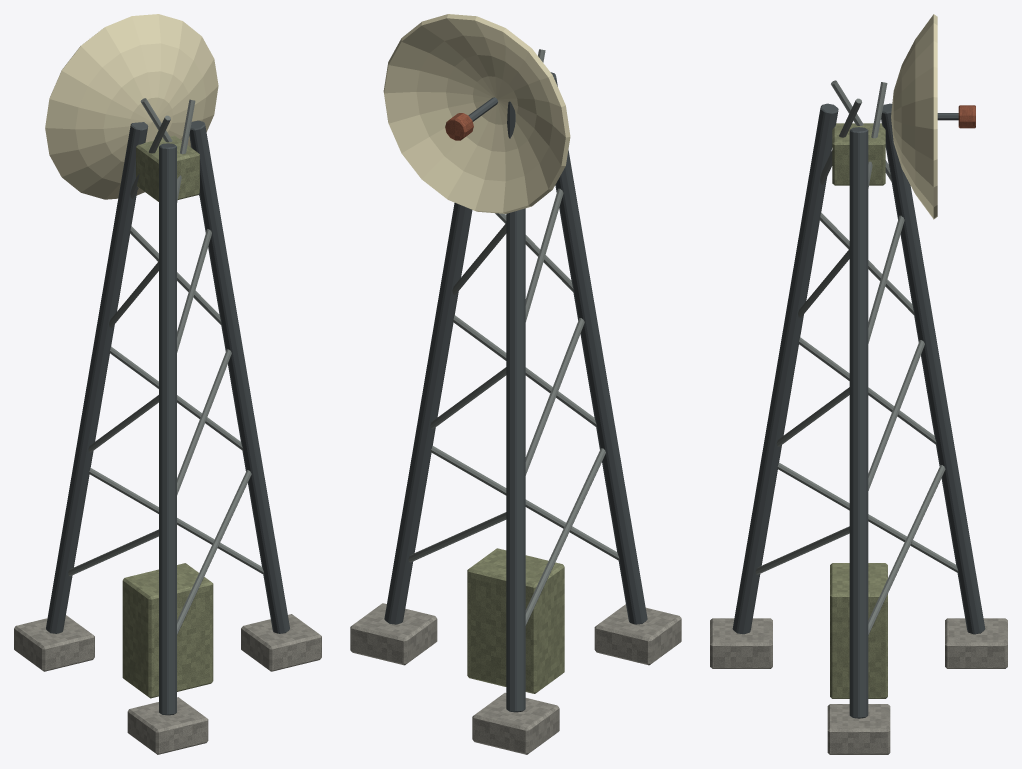
3 views of the same model, side by side, from view 1: azimuth 30°, elevation 25°; view 2: azimuth 150°, elevation 25°; view 3: azimuth 270°, elevation 25° (orthographic). The views are drawn at different scales.
Visible parts, largest first — view 1: ST2-B03_Mesh, AntennaYaw_Mesh; view 2: ST2-B03_Mesh, AntennaYaw_Mesh; view 3: ST2-B03_Mesh, AntennaYaw_Mesh.
Boxes of the visible parts, x1,y1,x2,y2 form: ST2-B03_Mesh: [14, 98, 321, 754]; AntennaYaw_Mesh: [45, 14, 218, 201]; ST2-B03_Mesh: [350, 49, 681, 754]; AntennaYaw_Mesh: [383, 14, 570, 213]; ST2-B03_Mesh: [710, 80, 1007, 754]; AntennaYaw_Mesh: [832, 14, 975, 219].
Bounding box in the file's own units: 2.79 × 7.55 × 3.07.
